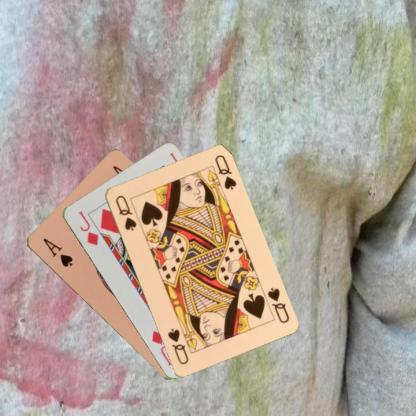As: (40, 235, 74, 269)
Jd: (76, 207, 99, 247)
Qs: (264, 285, 291, 325), (112, 192, 138, 232)
